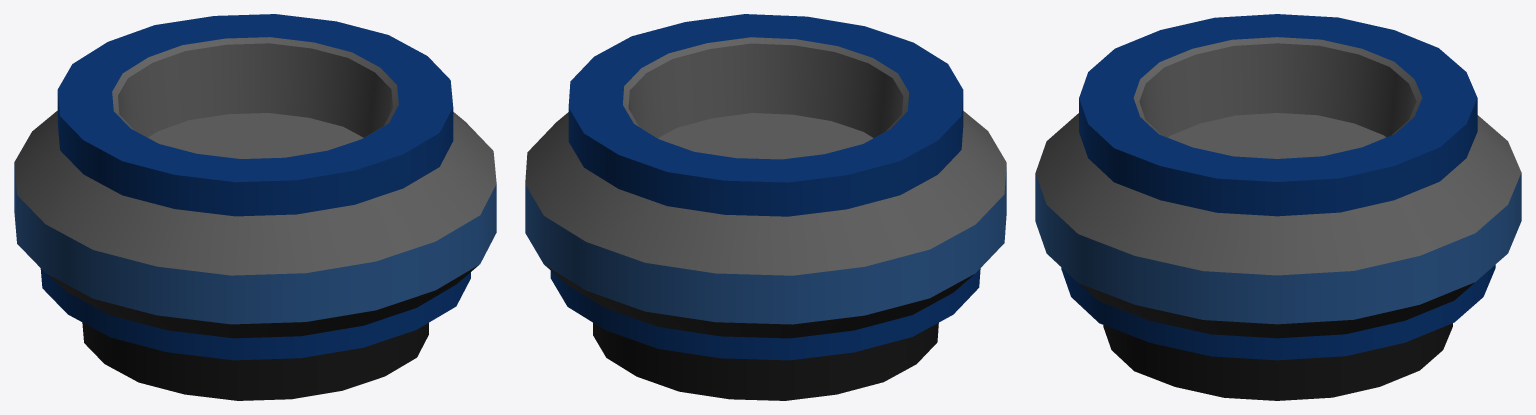
File: SM_Element_Blue.fbx
3 views of the same model, side by side, from view 1: azimuth 30°, elevation 25°; view 2: azimuth 150°, elevation 25°; view 3: azimuth 270°, elevation 25° (orthographic).
Visible parts, largest first — view 1: SM_Element_Blue; view 2: SM_Element_Blue; view 3: SM_Element_Blue.
Part boxes in pixels (x1,y1,x2,y2): SM_Element_Blue: (14, 14, 496, 400); SM_Element_Blue: (525, 14, 1006, 400); SM_Element_Blue: (1035, 14, 1521, 400).
Bounding box in the file's own units: 80.91 × 42.17 × 81.03.
